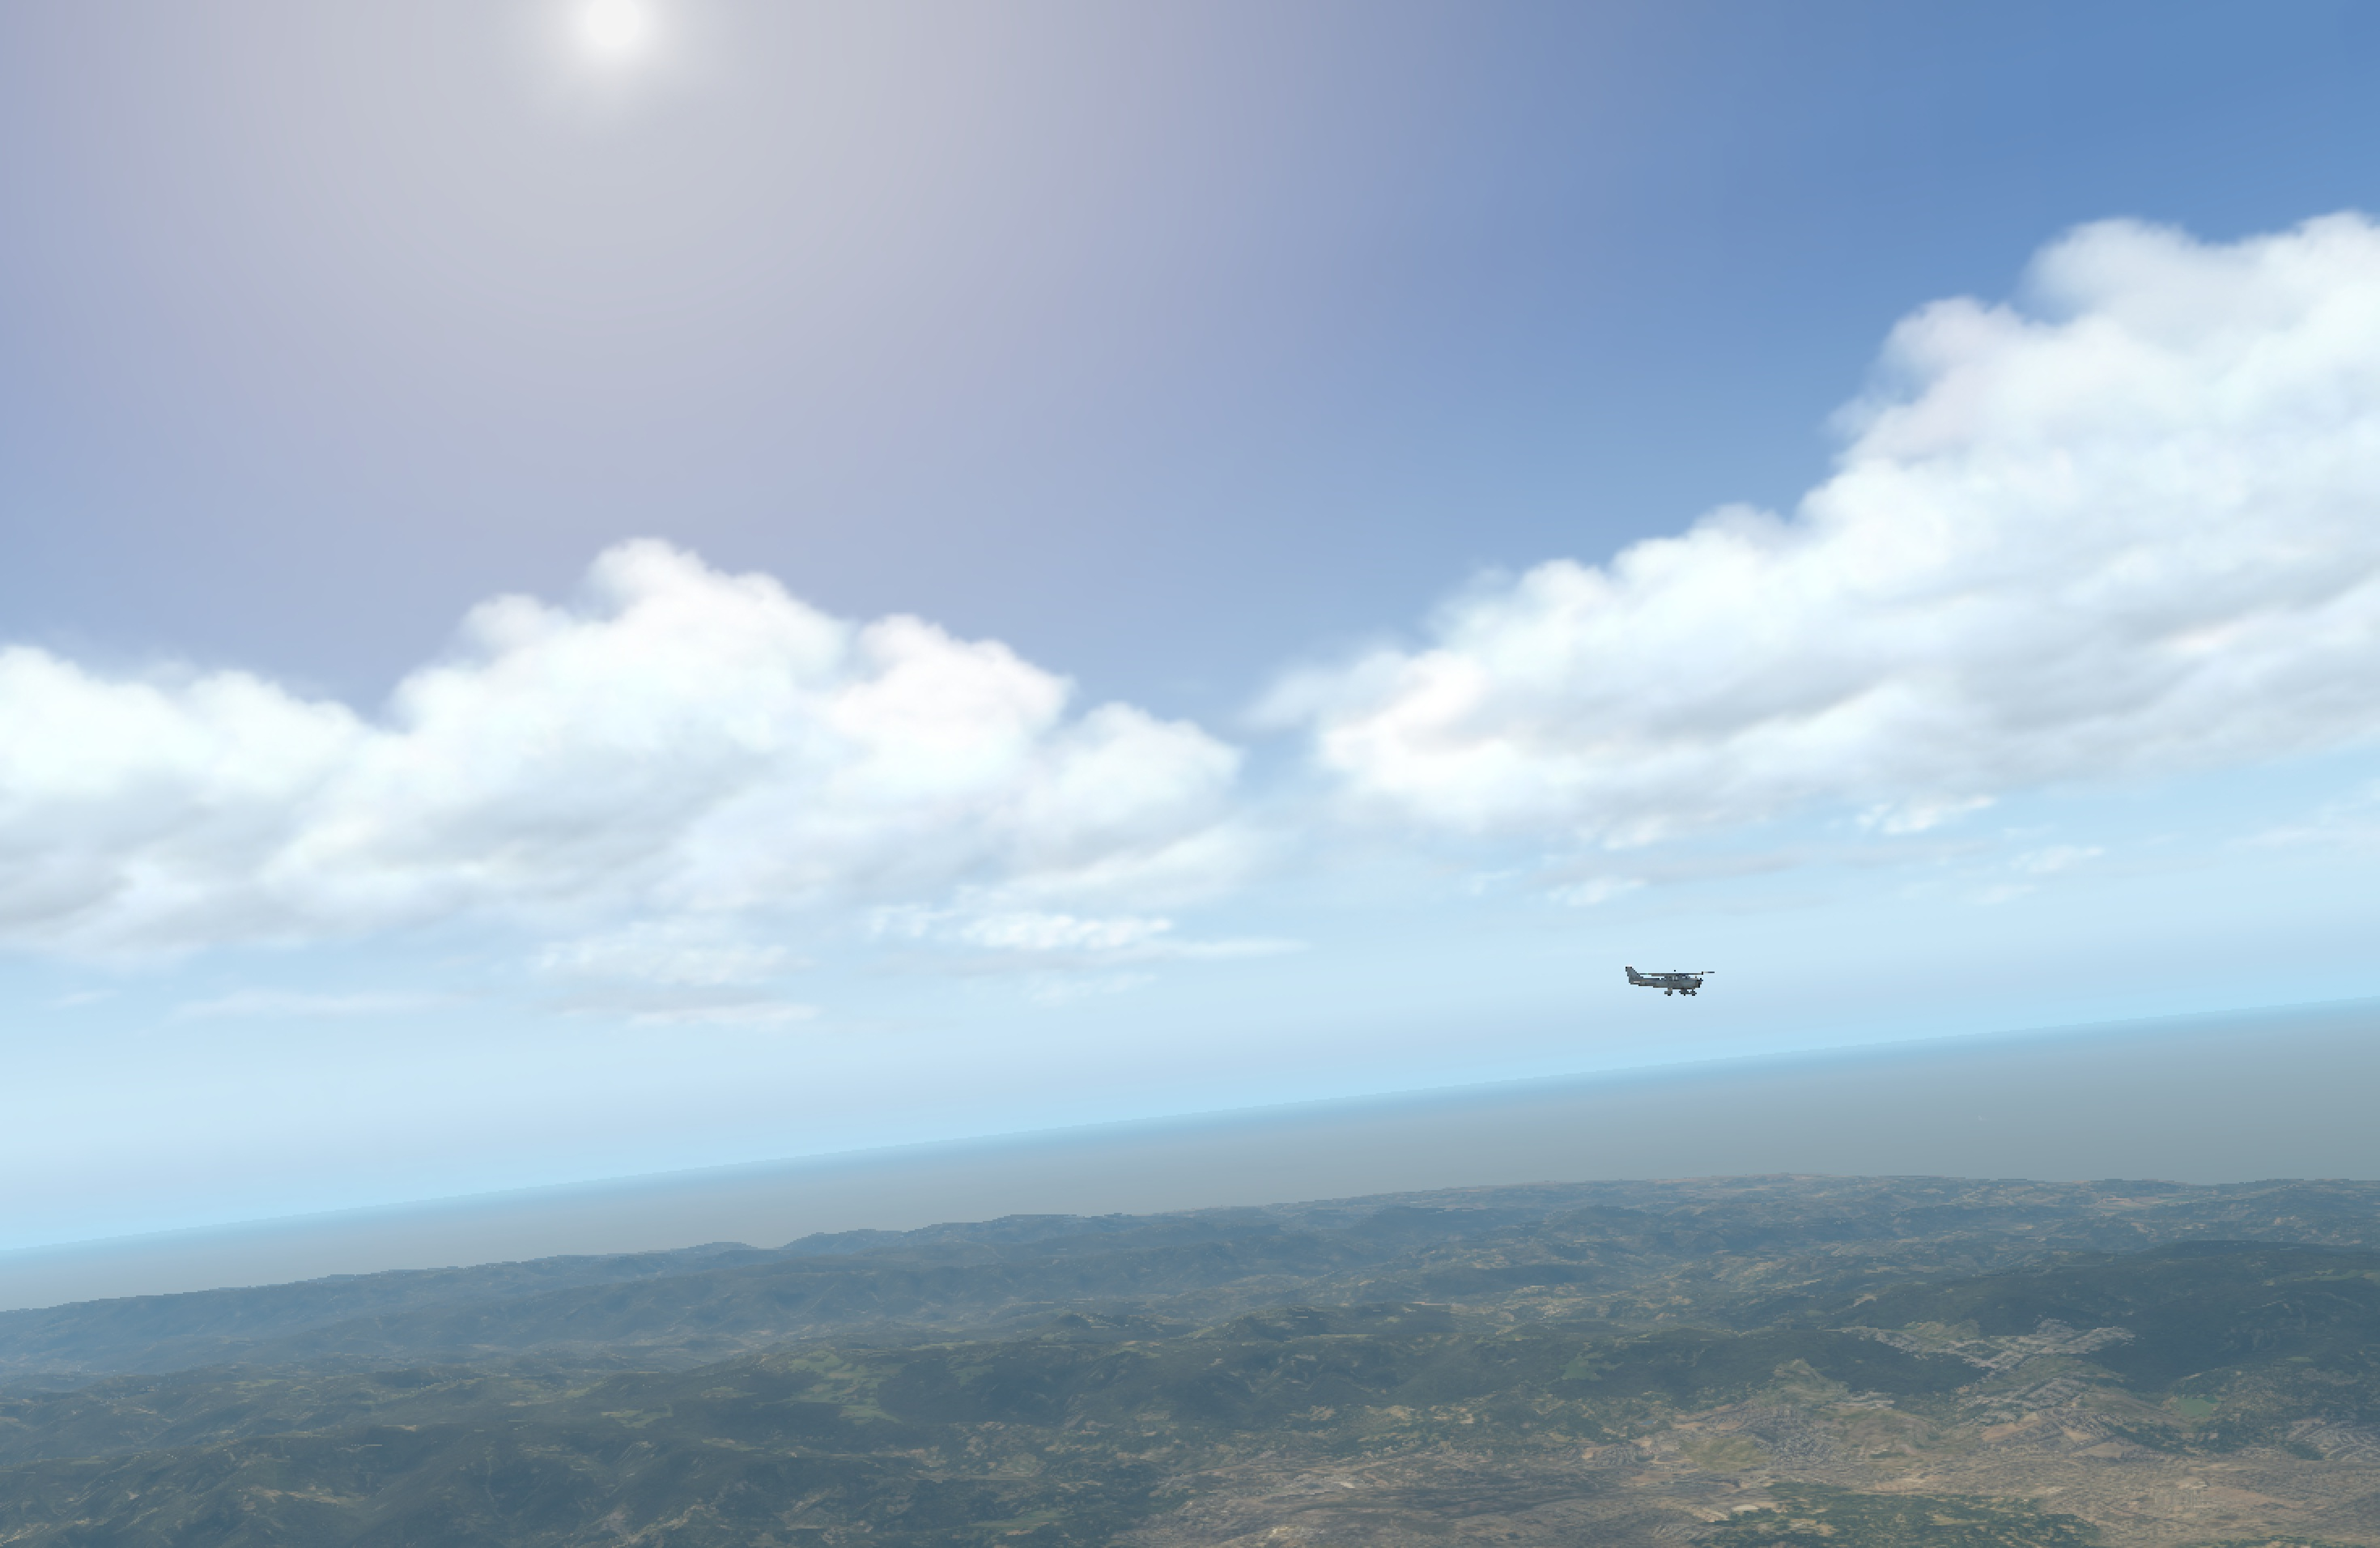aircraft: (1638, 965, 1723, 996)
